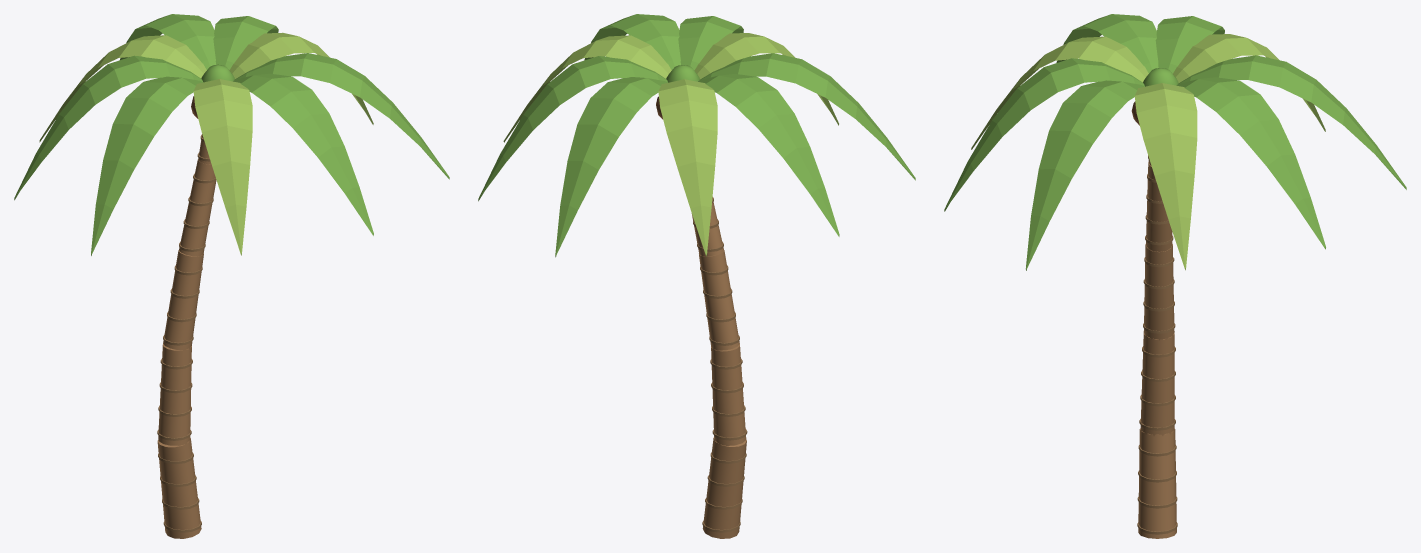
Rendered from tree_palm.glb.
The picture shows the model from 3 angles, left to right: view 1: azimuth 30°, elevation 25°; view 2: azimuth 150°, elevation 25°; view 3: azimuth 270°, elevation 25°; orthographic projection. The views are drawn at different scales.
Parts seen in each view (by area): view 1: Palm_Frond_06, Palm_Frond_05, Palm_Frond_07, Palm_Frond_04, Palm_Frond_08, Palm_Curved_Trunk_00, Palm_Curved_Trunk_01, Palm_Curved_Trunk_02, Palm_Frond_03, Palm_Frond_02, Palm_Frond_00, Palm_Curved_Trunk_03 (+1 smaller); view 2: Palm_Frond_03, Palm_Frond_02, Palm_Frond_04, Palm_Frond_01, Palm_Frond_05, Palm_Curved_Trunk_00, Palm_Curved_Trunk_01, Palm_Curved_Trunk_02, Palm_Frond_00, Palm_Frond_08, Palm_Frond_06, Palm_Frond_07 (+1 smaller); view 3: Palm_Frond_00, Palm_Frond_08, Palm_Frond_01, Palm_Frond_07, Palm_Frond_02, Palm_Curved_Trunk_00, Palm_Curved_Trunk_01, Palm_Frond_06, Palm_Frond_05, Palm_Frond_03, Palm_Curved_Trunk_02, Palm_Frond_04 (+1 smaller).
Part boxes in pixels (<box>): Palm_Frond_06: <box>193,79,252,255</box>; Palm_Frond_05: <box>91,76,202,255</box>; Palm_Frond_07: <box>233,73,373,235</box>; Palm_Frond_04: <box>14,55,202,200</box>; Palm_Frond_08: <box>234,53,449,179</box>; Palm_Curved_Trunk_00: <box>157,438,201,538</box>; Palm_Curved_Trunk_01: <box>158,343,191,445</box>; Palm_Curved_Trunk_02: <box>163,250,203,350</box>; Palm_Frond_03: <box>39,35,206,142</box>; Palm_Frond_02: <box>120,14,215,69</box>; Palm_Frond_00: <box>229,32,373,124</box>; Palm_Curved_Trunk_03: <box>179,159,216,256</box>; Palm_Frond_03: <box>658,79,717,256</box>; Palm_Frond_02: <box>555,77,667,257</box>; Palm_Frond_04: <box>698,74,839,236</box>; Palm_Frond_01: <box>478,56,667,201</box>; Palm_Frond_05: <box>699,53,915,180</box>; Palm_Curved_Trunk_00: <box>702,437,746,538</box>; Palm_Curved_Trunk_01: <box>711,344,746,445</box>; Palm_Curved_Trunk_02: <box>699,250,739,350</box>; Palm_Frond_00: <box>503,35,671,142</box>; Palm_Frond_08: <box>584,14,680,70</box>; Palm_Frond_06: <box>694,33,838,125</box>; Palm_Frond_07: <box>678,16,743,70</box>; Palm_Frond_00: <box>1134,83,1197,270</box>; Palm_Frond_08: <box>1025,80,1144,270</box>; Palm_Frond_01: <box>1176,77,1325,249</box>; Palm_Frond_07: <box>944,58,1144,211</box>; Palm_Frond_02: <box>1178,55,1406,189</box>; Palm_Curved_Trunk_00: <box>1138,428,1176,538</box>; Palm_Curved_Trunk_01: <box>1140,331,1174,436</box>; Palm_Frond_06: <box>971,36,1148,149</box>; Palm_Frond_05: <box>1056,14,1158,73</box>; Palm_Frond_03: <box>1173,34,1325,131</box>; Palm_Curved_Trunk_02: <box>1144,244,1174,340</box>; Palm_Frond_04: <box>1155,16,1224,73</box>.
Size of the model in its own units: 5.29 by 6.79 by 5.73.
